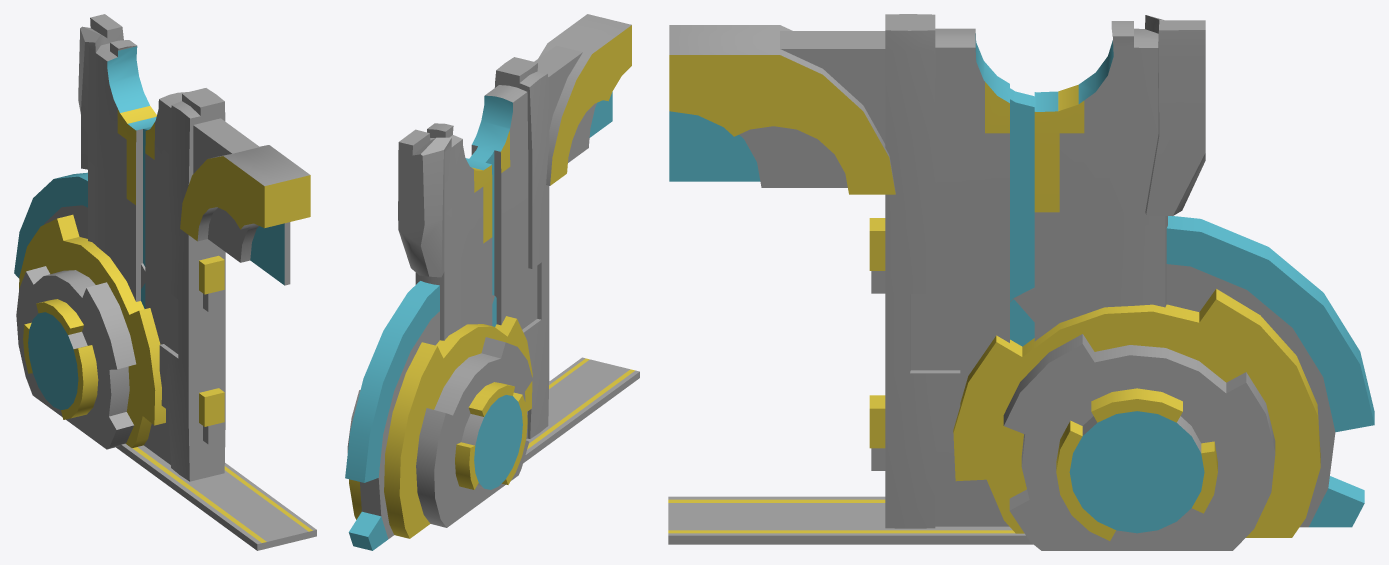
File: door.fbx
3 renders of one model, left to right at view 1: azimuth 30°, elevation 25°; view 2: azimuth 150°, elevation 25°; view 3: azimuth 270°, elevation 25°, orthographic. The views are drawn at different scales.
Visible parts, largest first — view 1: polySurface21; view 2: polySurface21; view 3: polySurface21.
Boxes of the visible parts, x1,y1,x2,y2 form: polySurface21: (14,14,316,550); polySurface21: (345,14,639,550); polySurface21: (668,14,1374,550).
Size of the model in its own units: 2 by 6.07 by 7.67.
